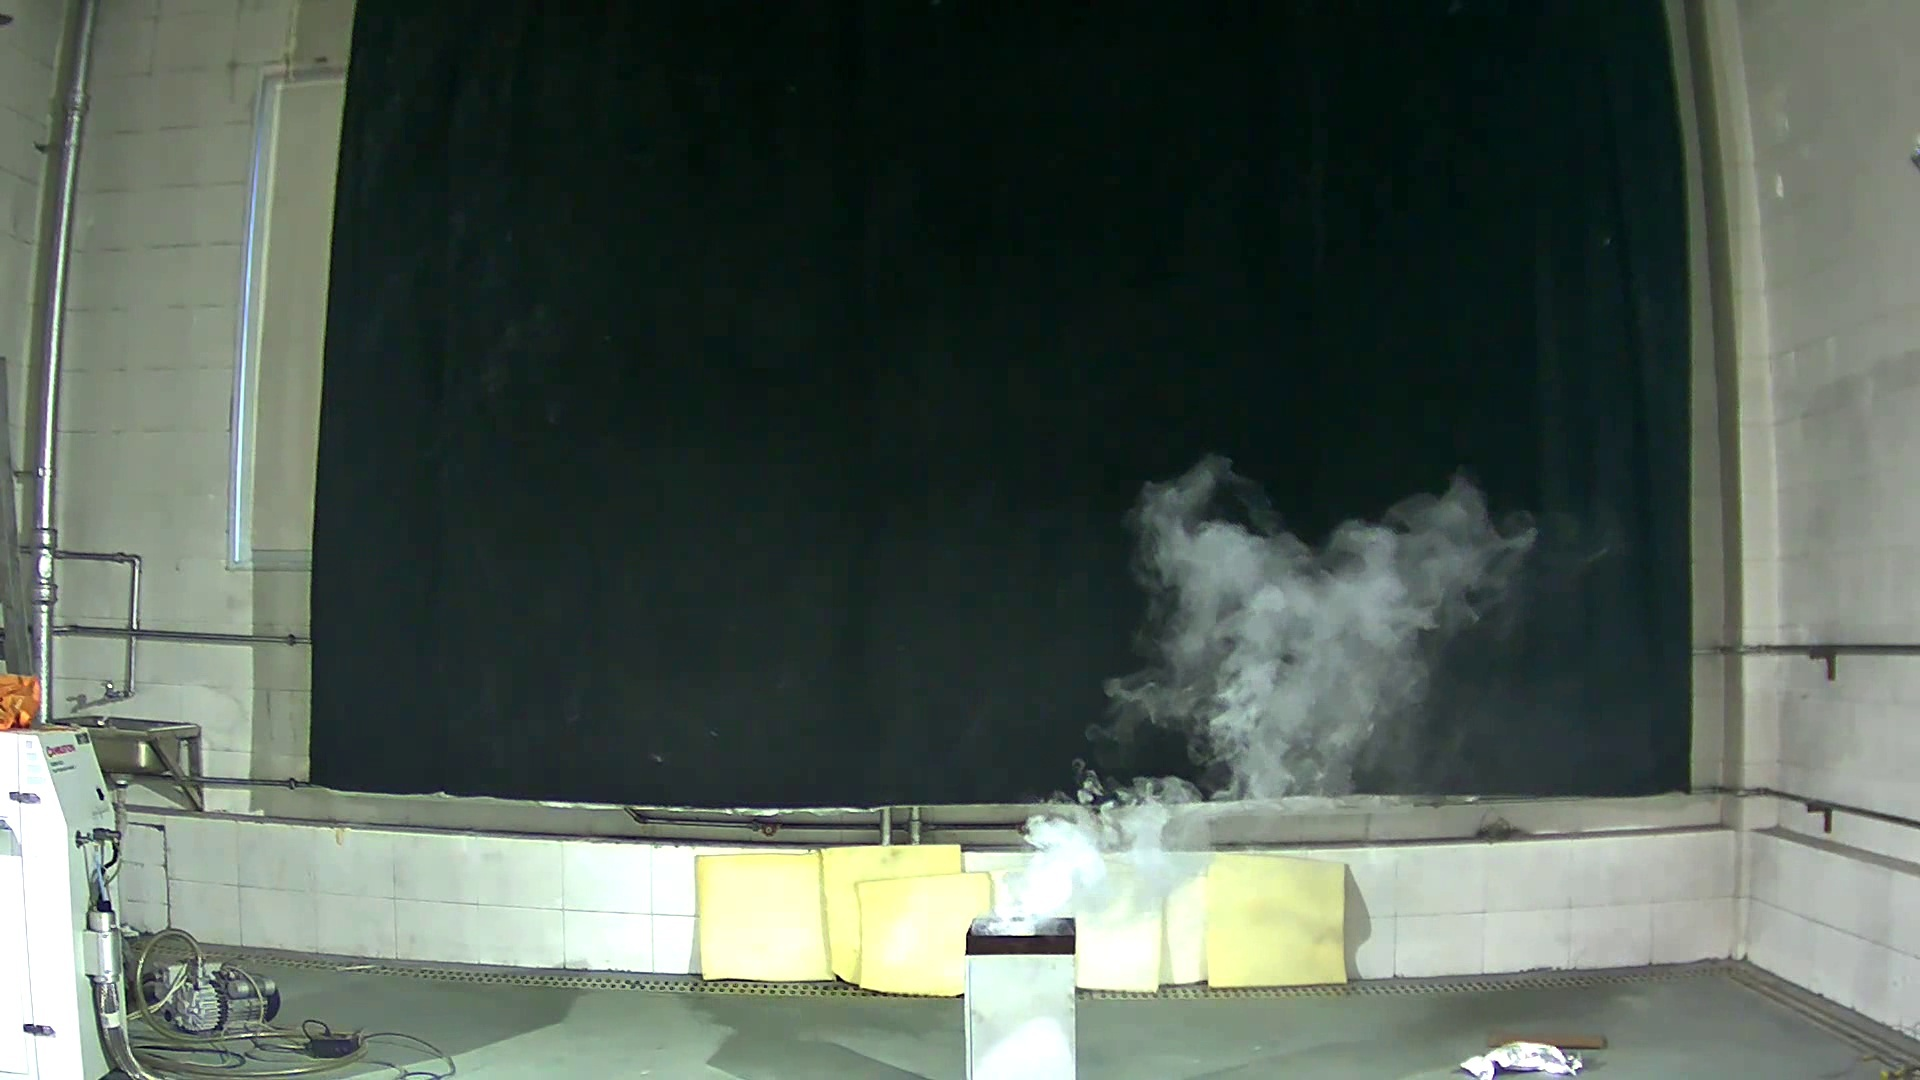smoke: (967, 440, 1545, 934)
